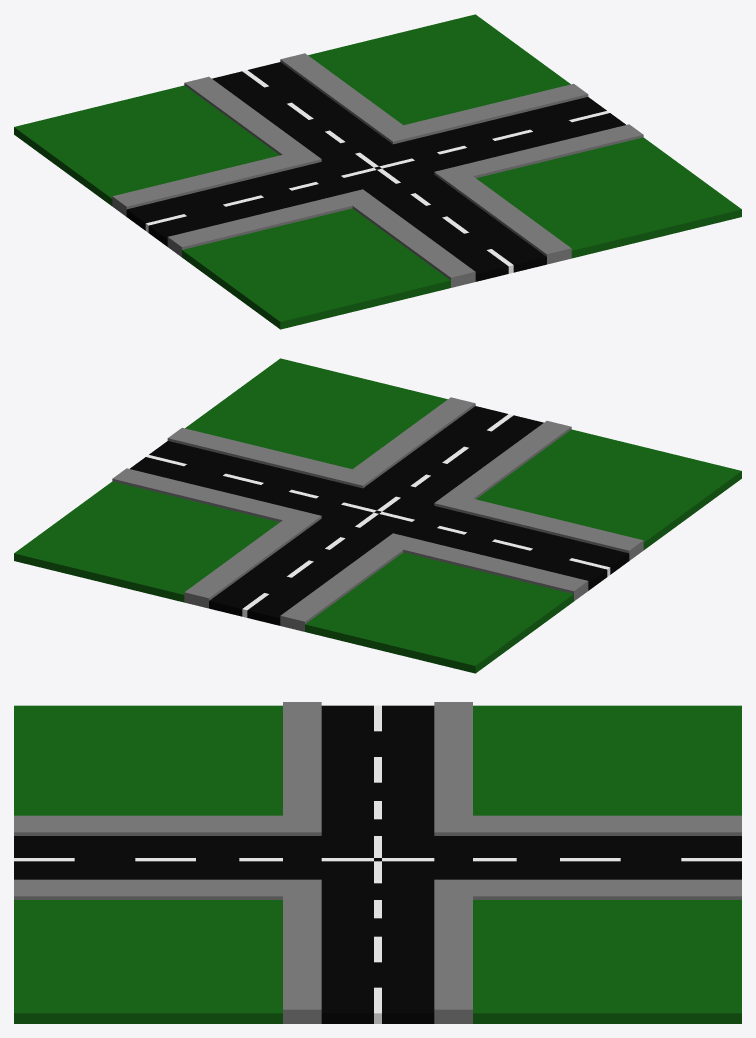
The model's file is ground.fbx.
3 renders of one model, top to bottom at view 1: azimuth 30°, elevation 25°; view 2: azimuth 150°, elevation 25°; view 3: azimuth 270°, elevation 25°, orthographic. The views are drawn at different scales.
Visible parts, largest first — view 1: cityground; view 2: cityground; view 3: cityground.
Part boxes in pixels (x1,y1,x2,y2): cityground: [14, 14, 741, 329]; cityground: [14, 358, 741, 673]; cityground: [14, 702, 741, 1023].
Size of the model in its own units: 2200 by 46.92 by 2200.
